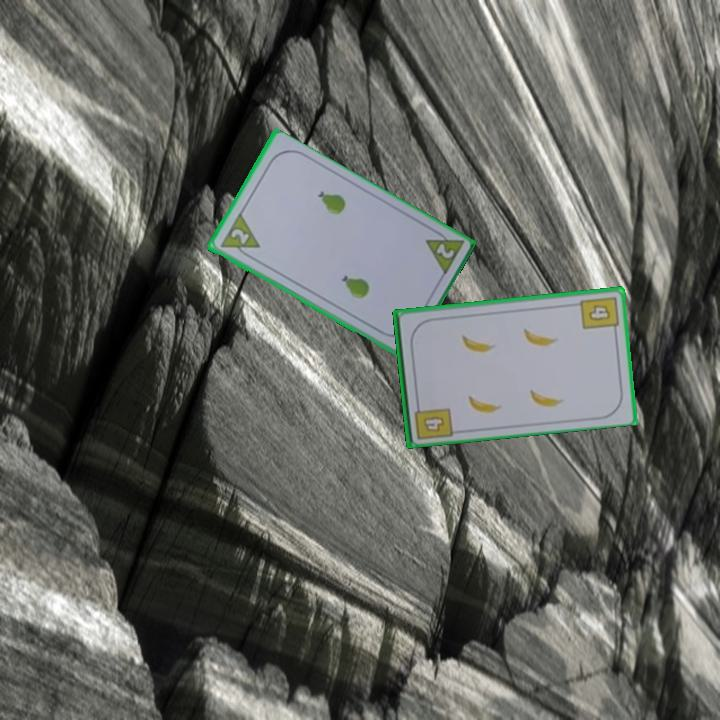2p: (421, 224, 466, 279), (226, 225, 252, 247)
4b: (411, 397, 455, 442), (577, 293, 621, 336)
